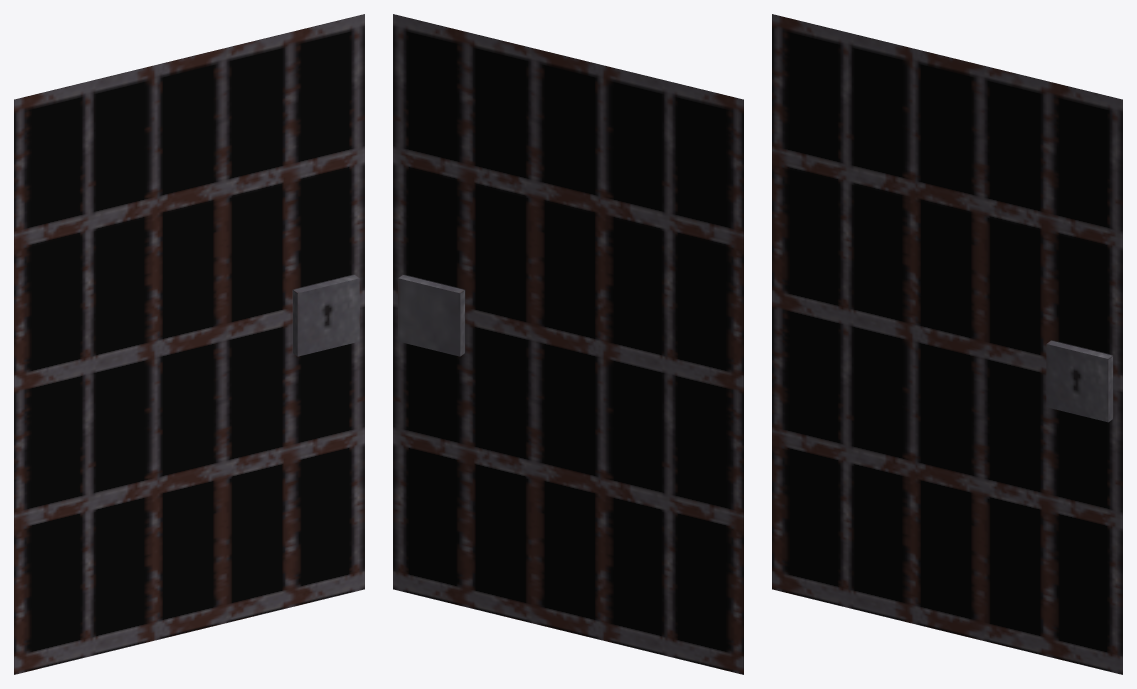
File: dver_reshetka.fbx
3 renders of one model, left to right at view 1: azimuth 30°, elevation 25°; view 2: azimuth 150°, elevation 25°; view 3: azimuth 330°, elevation 25°, orthographic.
Visible parts, largest first — view 1: Cube; view 2: Cube; view 3: Cube.
Boxes of the visible parts, bbox=[...] form: Cube: bbox=[14, 14, 364, 674]; Cube: bbox=[393, 14, 743, 674]; Cube: bbox=[772, 14, 1122, 674].
Bounding box in the file's own units: 131 × 205 × 6.04.
Materials: 1 (1 with a texture image).
